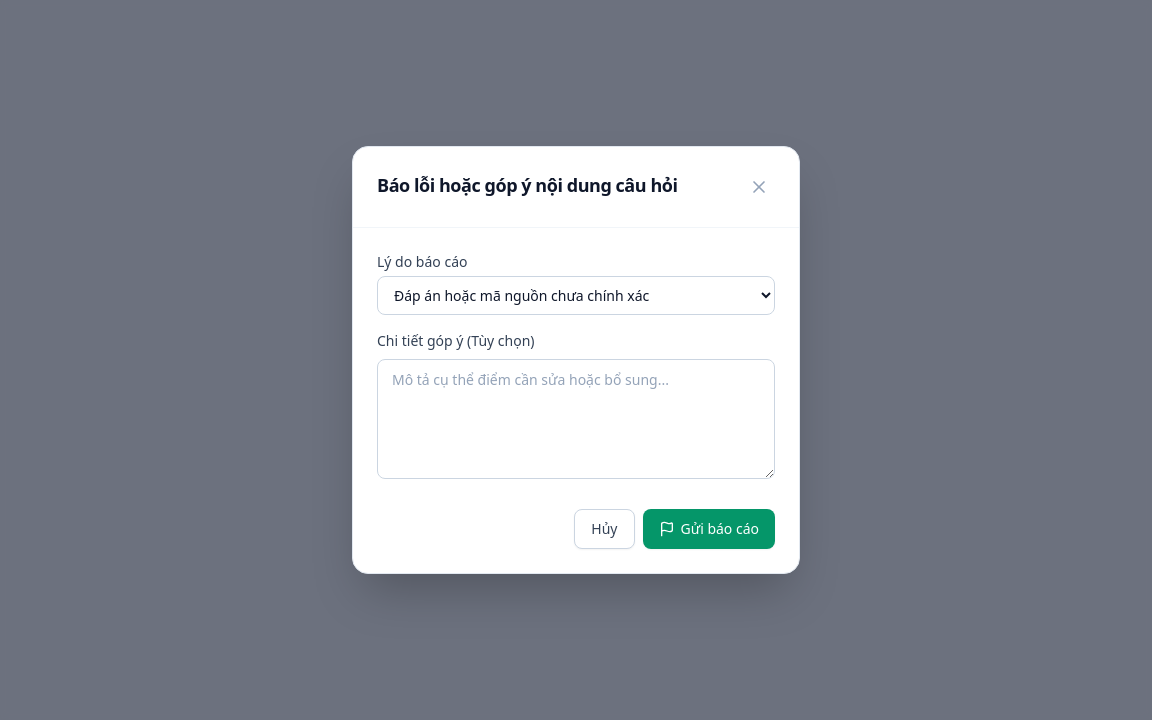
Test case: Question Bank Web Components › FeedbackModal allows selecting reason and submitting report
Expected: the heading "Báo lỗi hoặc góp ý nội dung câu hỏi" is shown, [377, 171, 678, 199]
Click the button "Gửi báo cáo" at (709, 529), box [642, 509, 775, 549]
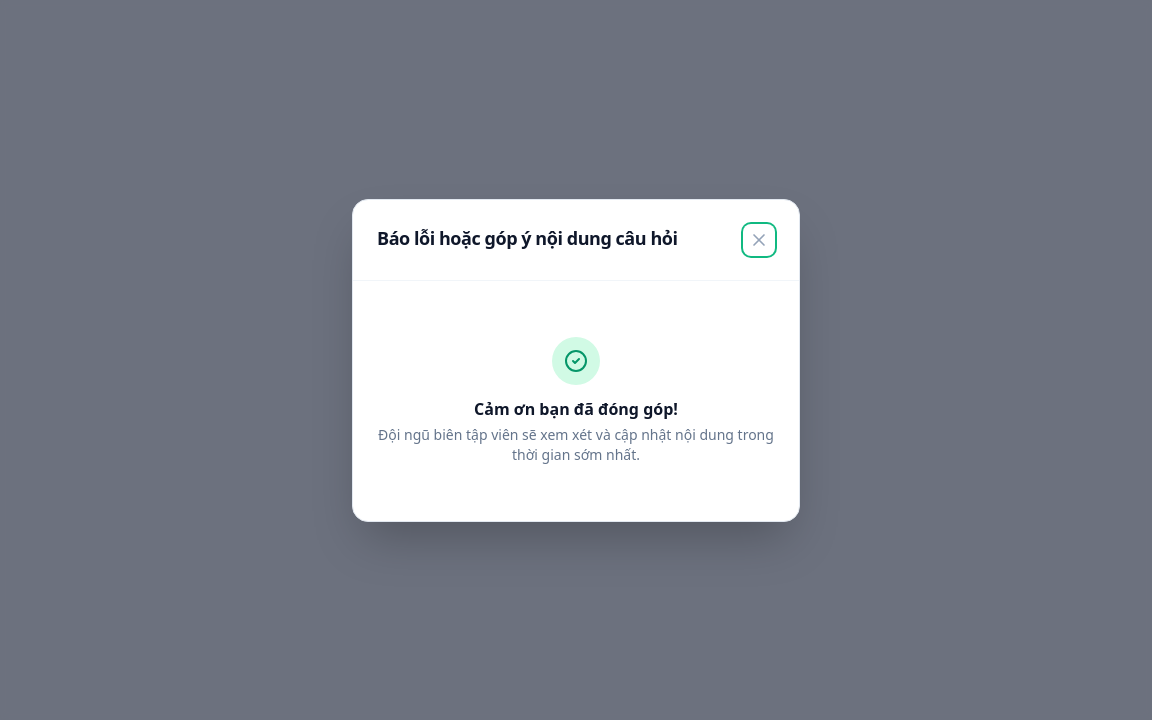
Expected: the heading "Cảm ơn bạn đã đóng góp!" is shown, [474, 398, 678, 420]
